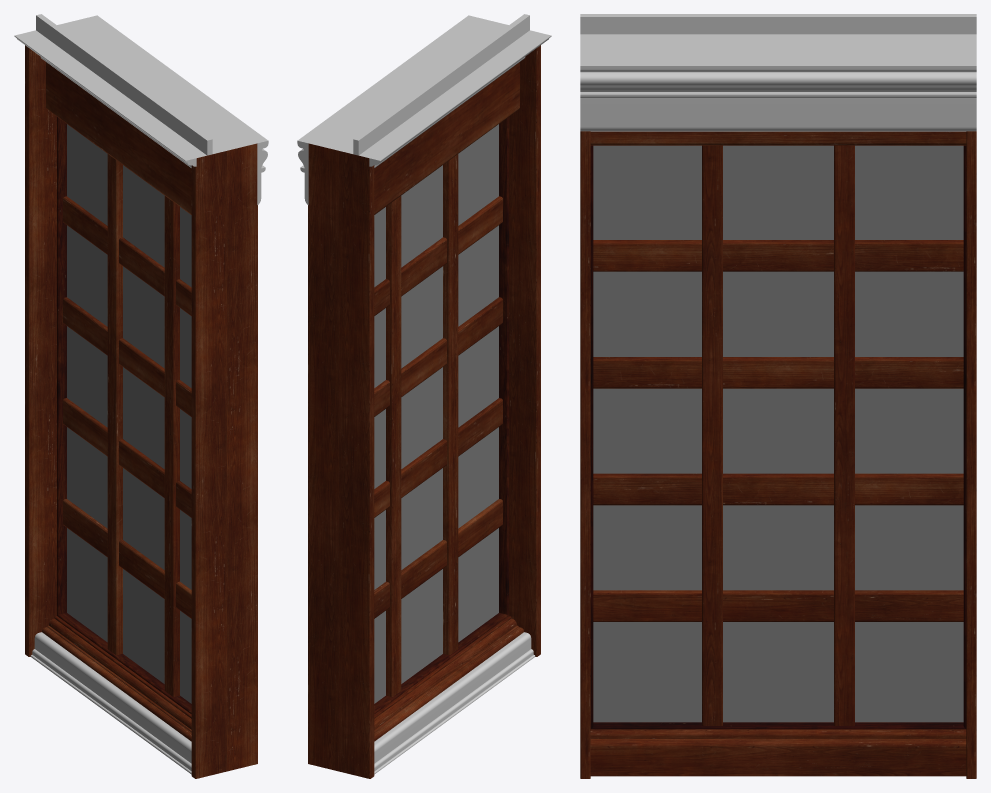
The model's file is SM_SteamPunk_Window_Exterior_Single.fbx.
3 renders of one model, left to right at view 1: azimuth 30°, elevation 25°; view 2: azimuth 150°, elevation 25°; view 3: azimuth 270°, elevation 25°, orthographic. The views are drawn at different scales.
Parts seen in each view (by area): view 1: SM_SteamPunk_Window_Exterior_Single_LOD0; view 2: SM_SteamPunk_Window_Exterior_Single_LOD0; view 3: SM_SteamPunk_Window_Exterior_Single_LOD0.
Boxes of the visible parts, x1,y1,x2,y2 form: SM_SteamPunk_Window_Exterior_Single_LOD0: [14, 14, 268, 778]; SM_SteamPunk_Window_Exterior_Single_LOD0: [297, 14, 551, 778]; SM_SteamPunk_Window_Exterior_Single_LOD0: [580, 14, 976, 778].
Bounding box in the file's own units: 41.9 × 150 × 307.
